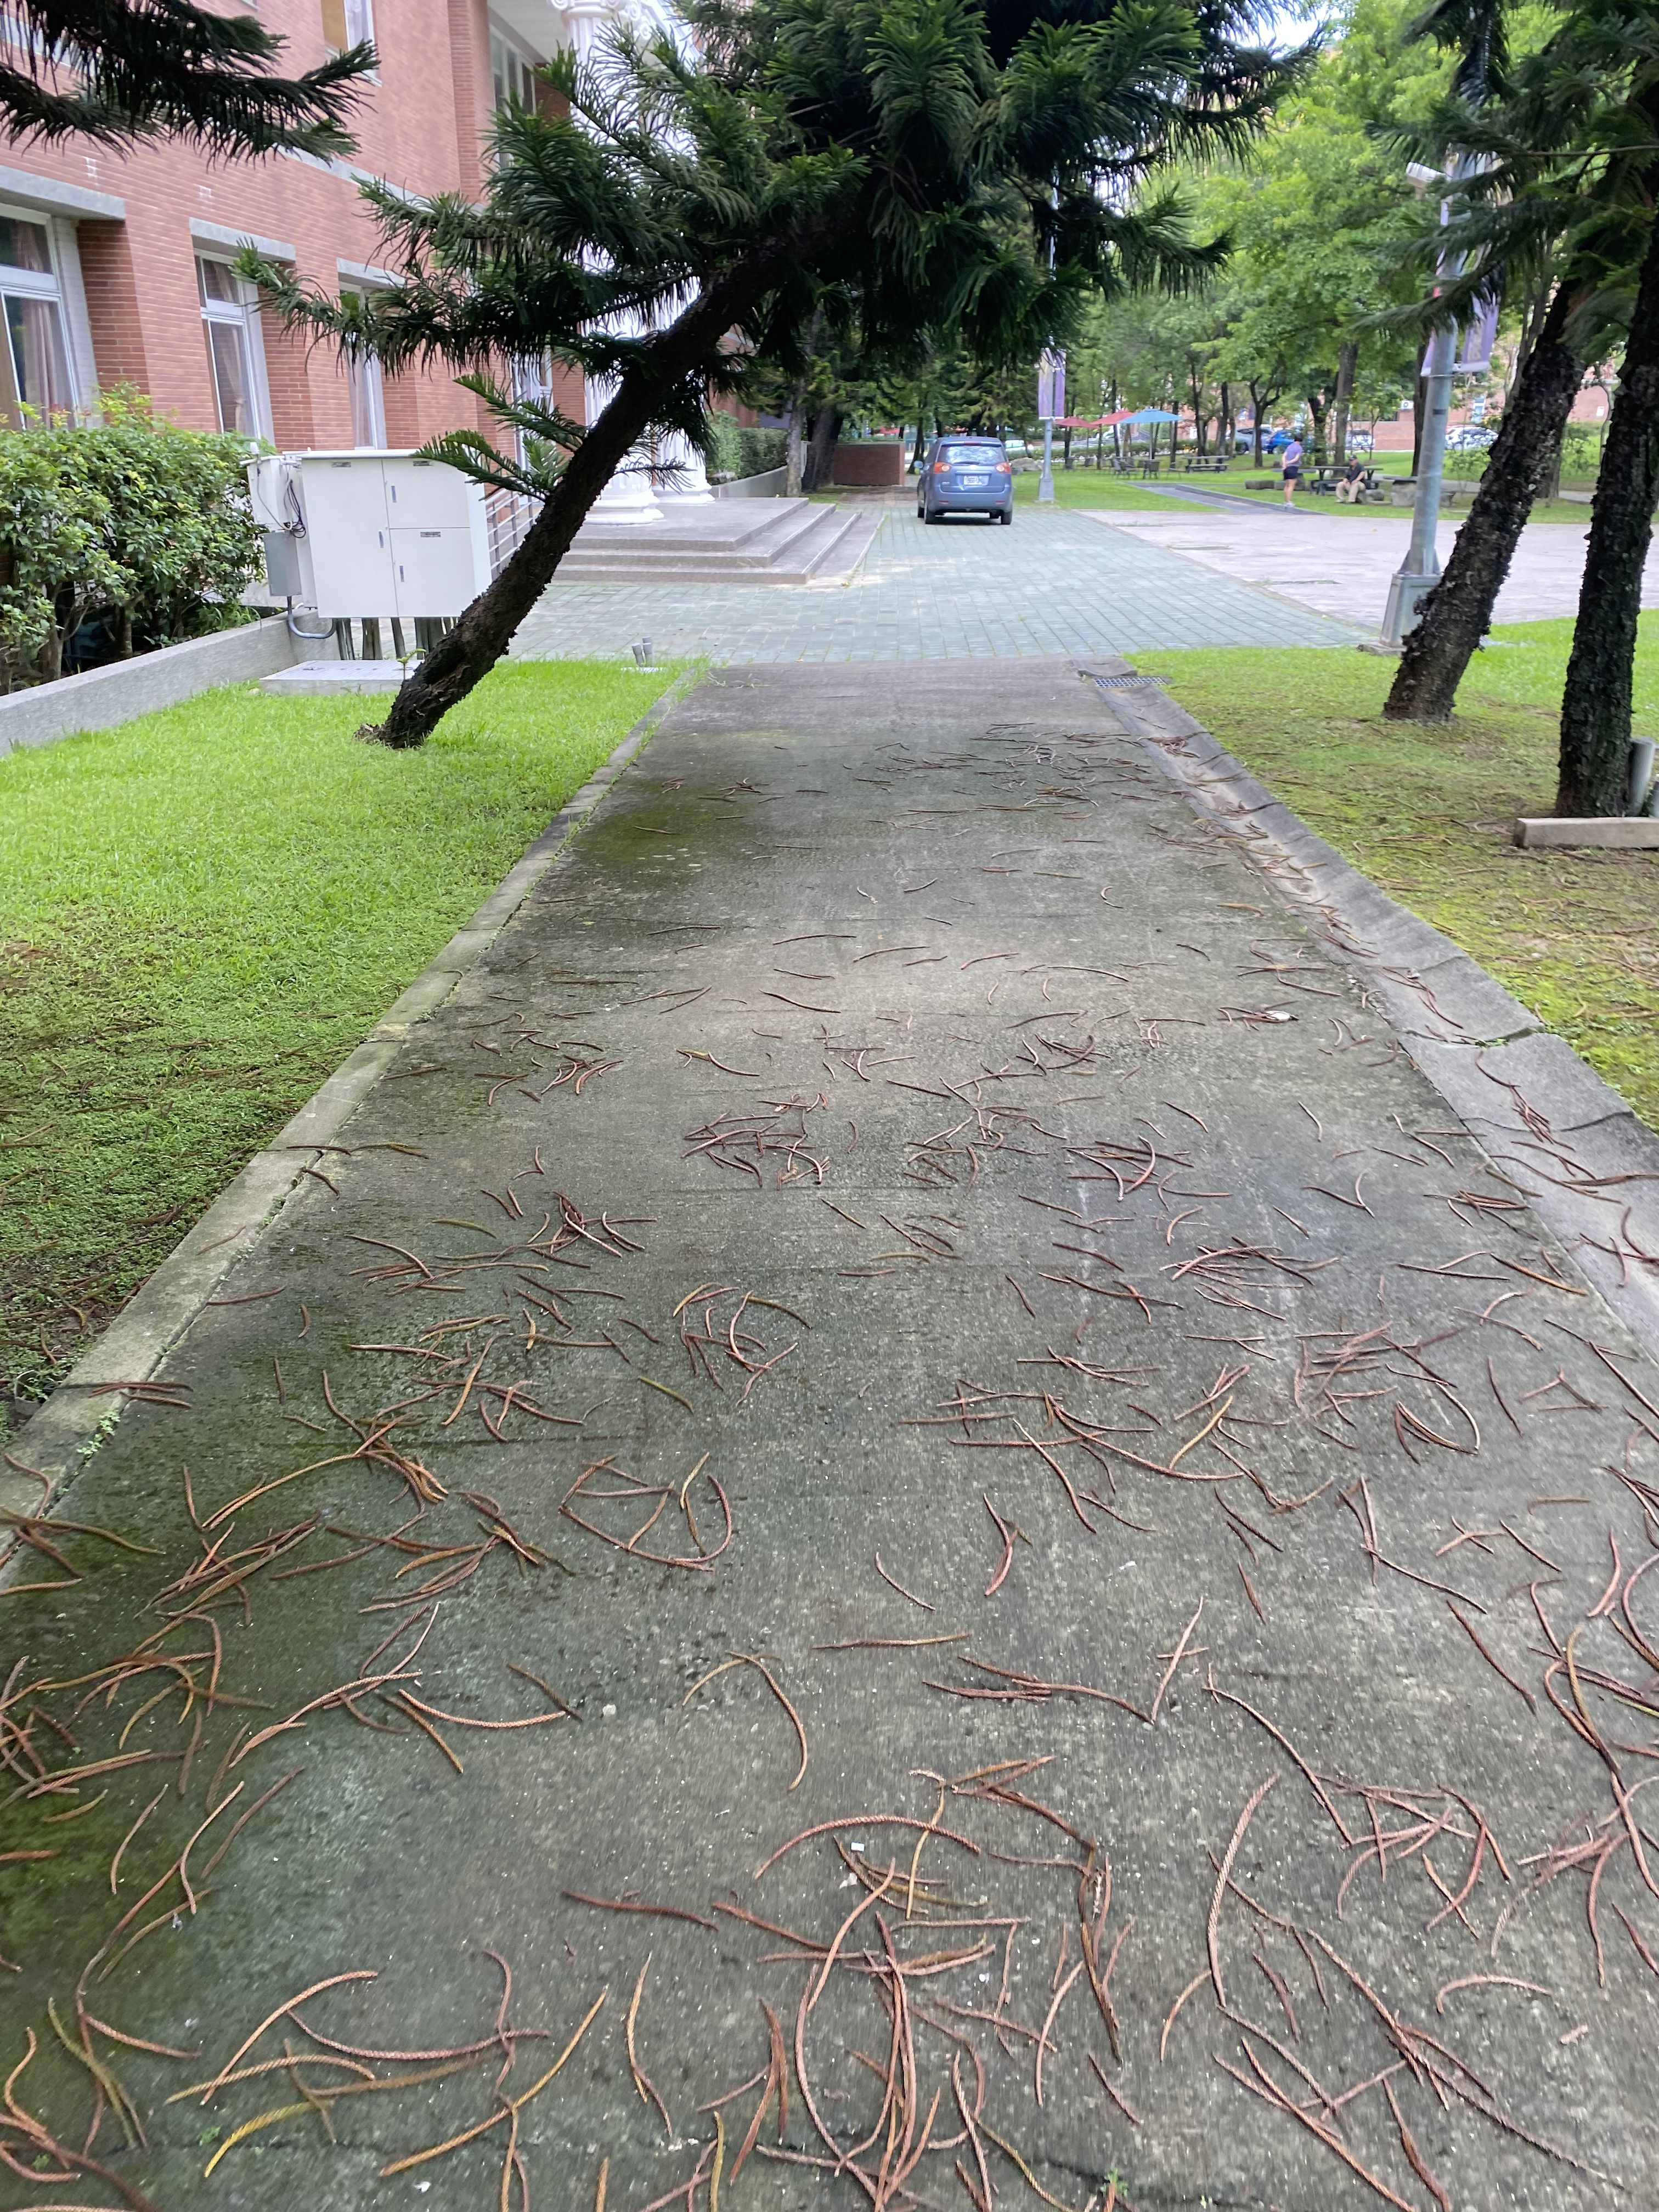0: (775, 474, 1255, 740)
sidewalk: (0, 643, 1624, 2205)
